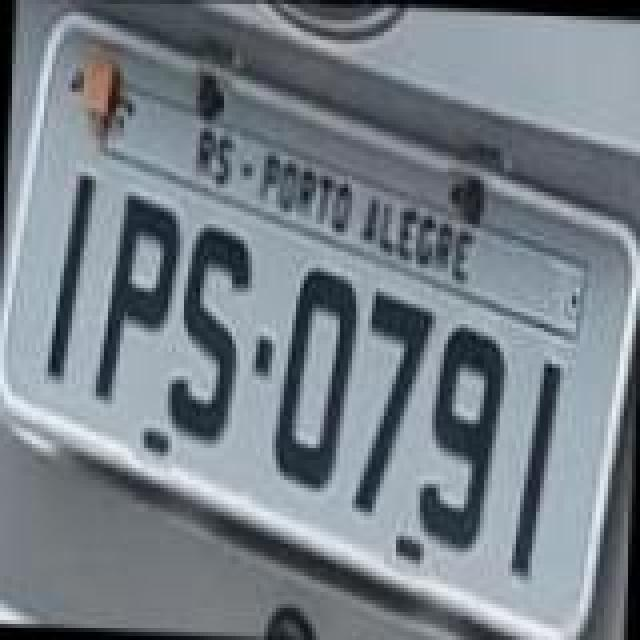1: (504, 354, 564, 582), (42, 170, 102, 382)
7: (350, 288, 438, 520)
9: (414, 320, 510, 552)
O: (272, 264, 368, 492)
P: (90, 190, 182, 410)
S: (168, 226, 256, 446)
